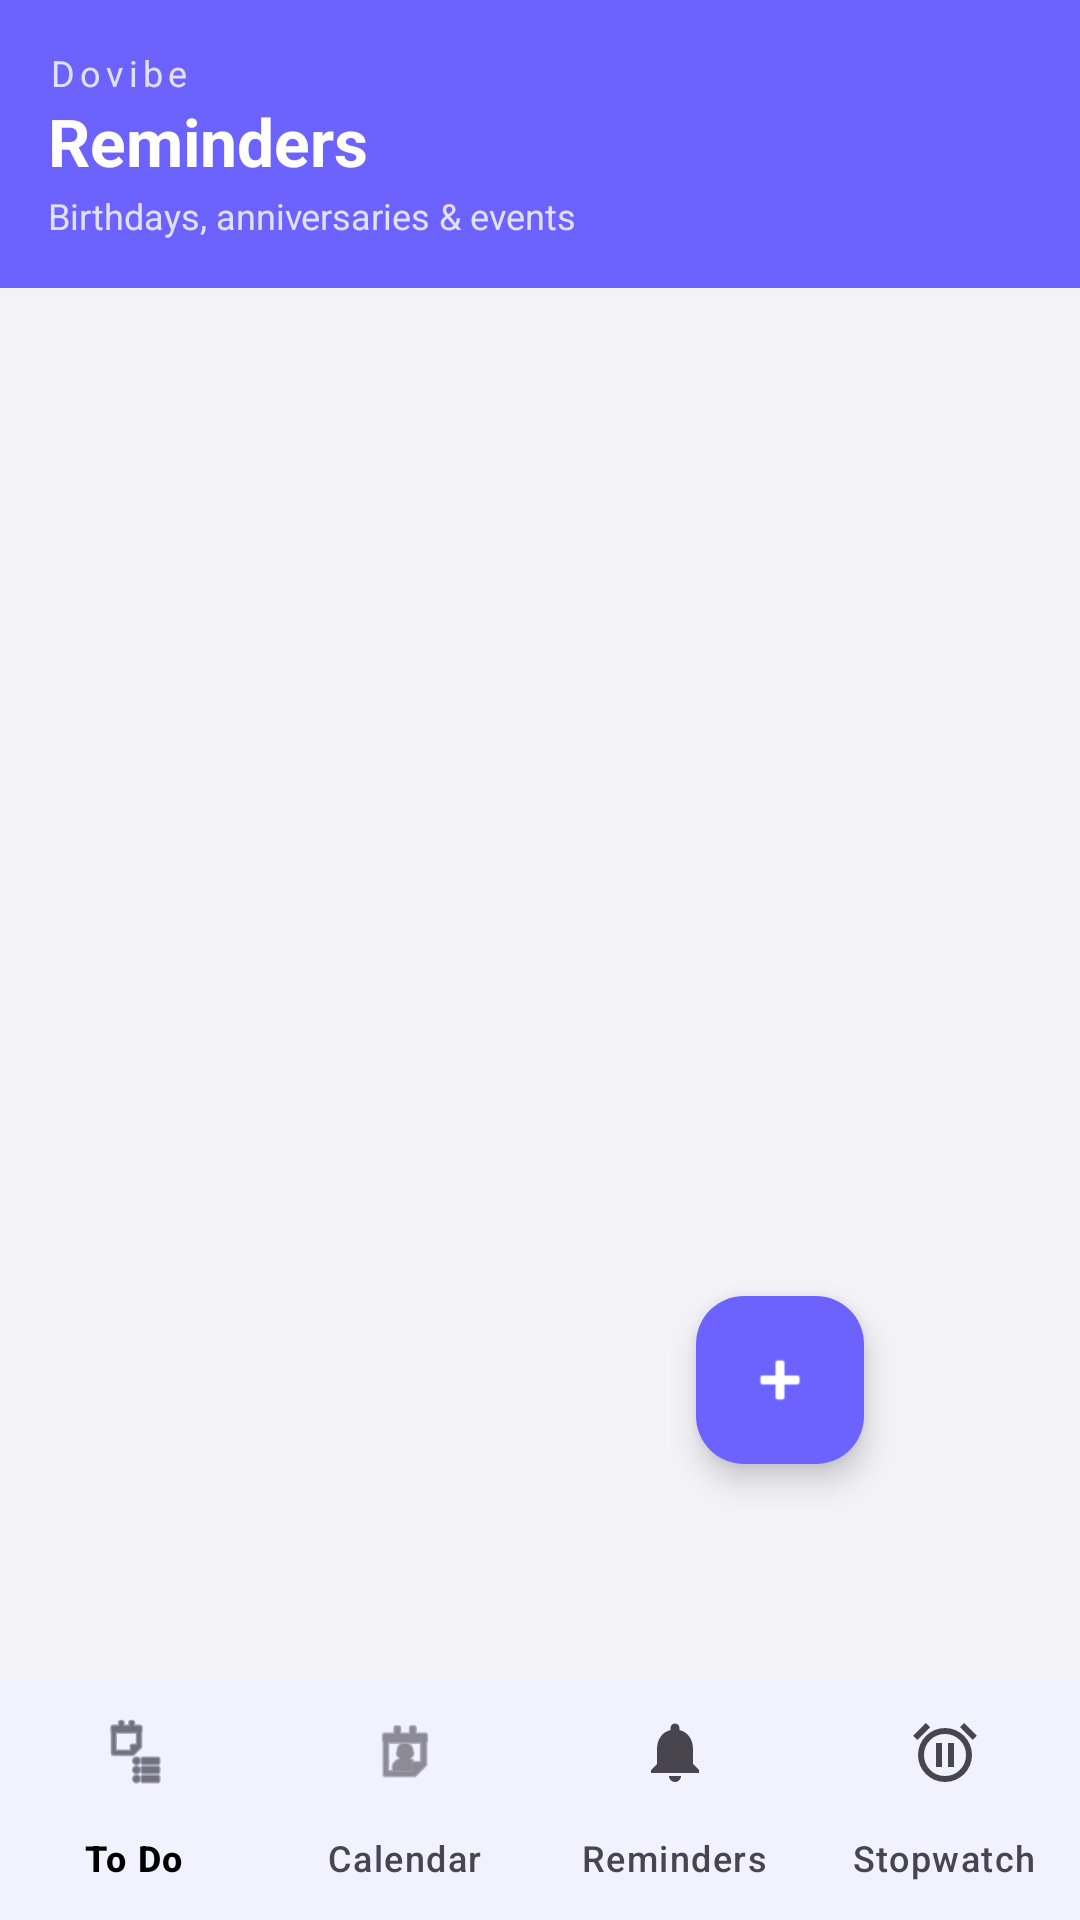

Screen size 1080px×1920px. Icon name, then its center in pixels as (x,y):
Add reminder: (780,1380)
